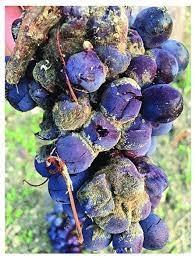Grape Rotten: (6, 5, 190, 254)
